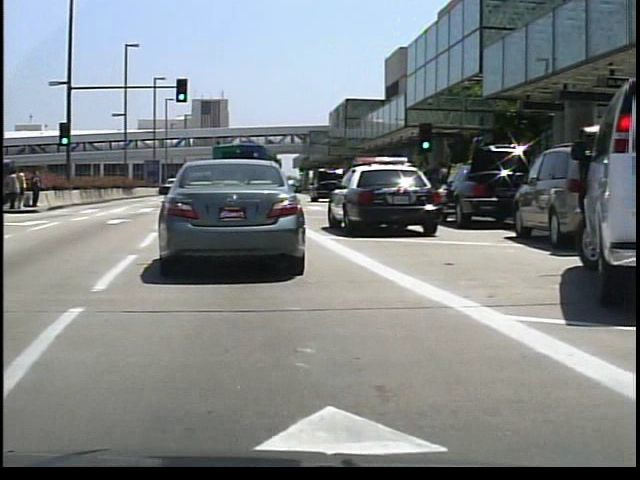person: (29, 166, 43, 209), (16, 163, 27, 211)
